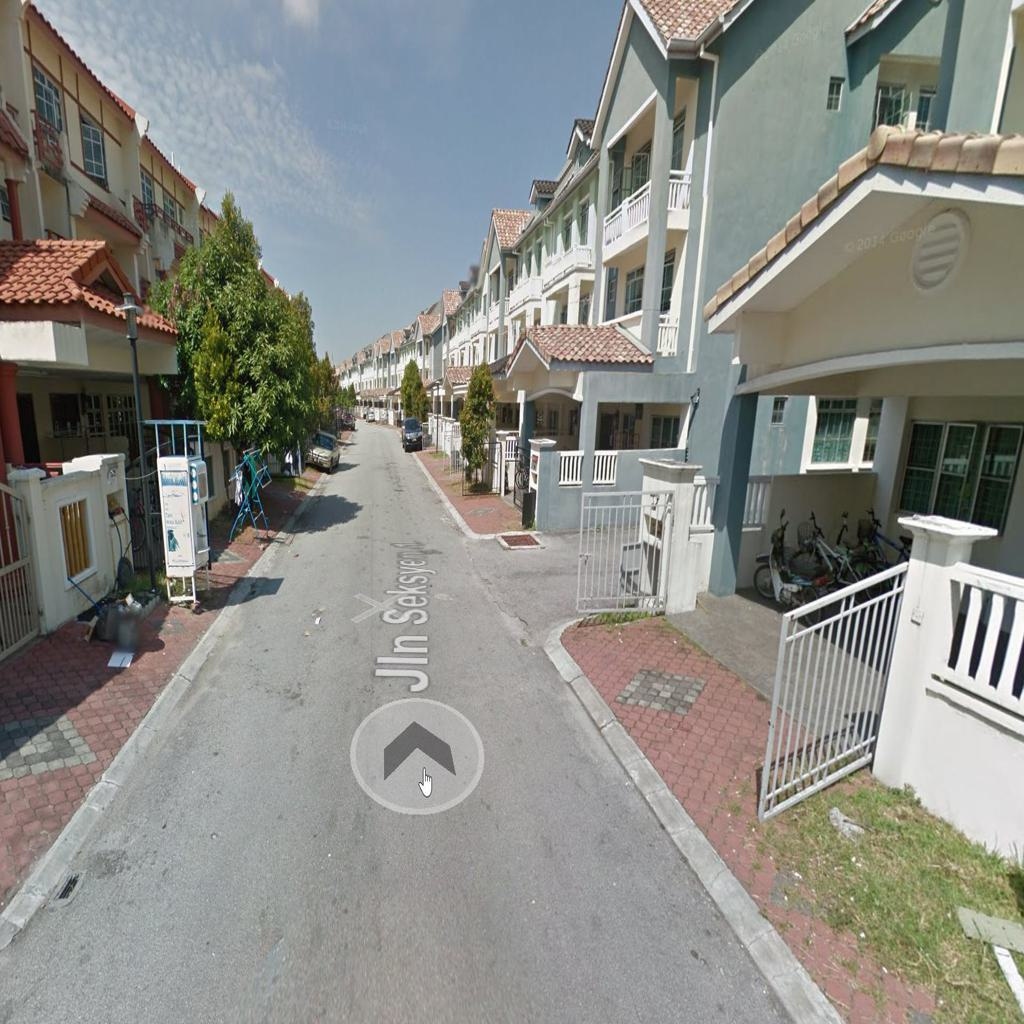Junction: (435, 497, 652, 662)
